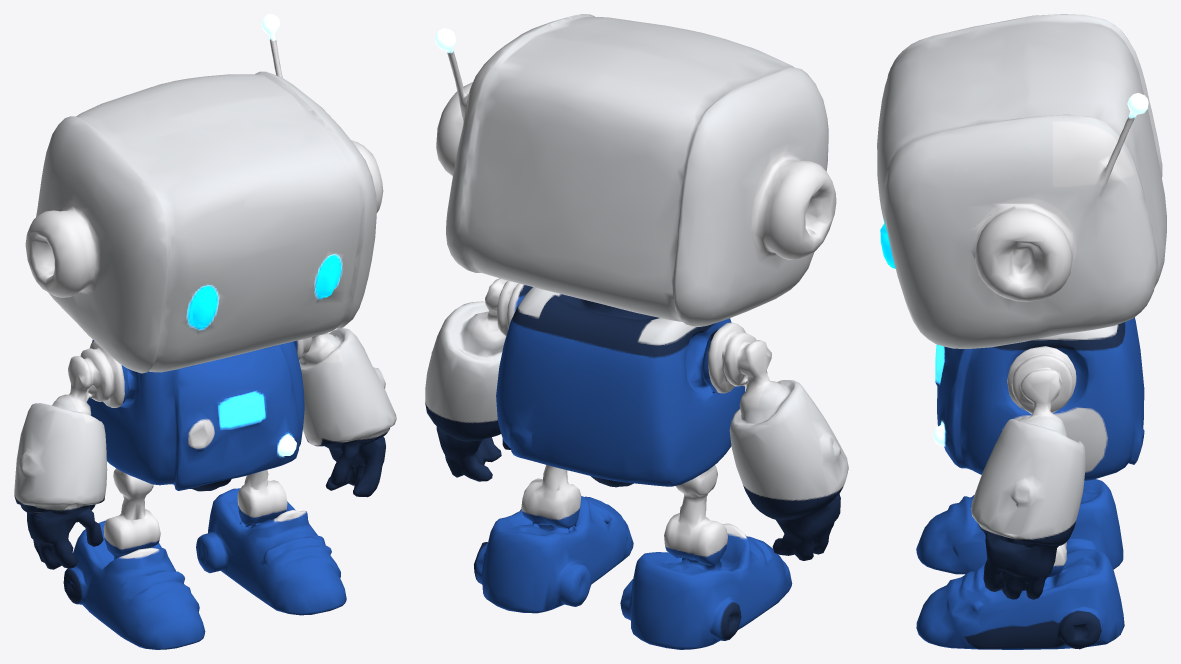
Rendered from robot_bluewhite.glb.
3 renders of one model, left to right at view 1: azimuth 30°, elevation 25°; view 2: azimuth 150°, elevation 25°; view 3: azimuth 270°, elevation 25°, orthographic. The views are drawn at different scales.
Visible parts, largest first — view 1: Mesh_0; view 2: Mesh_0; view 3: Mesh_0.
Part boxes in pixels (x1,y1,x2,y2): Mesh_0: [14, 14, 396, 649]; Mesh_0: [425, 14, 848, 649]; Mesh_0: [877, 14, 1166, 649].
Size of the model in its own units: 0.1495 by 0.2 by 0.0934.
Materials: 1 (1 with a texture image).
